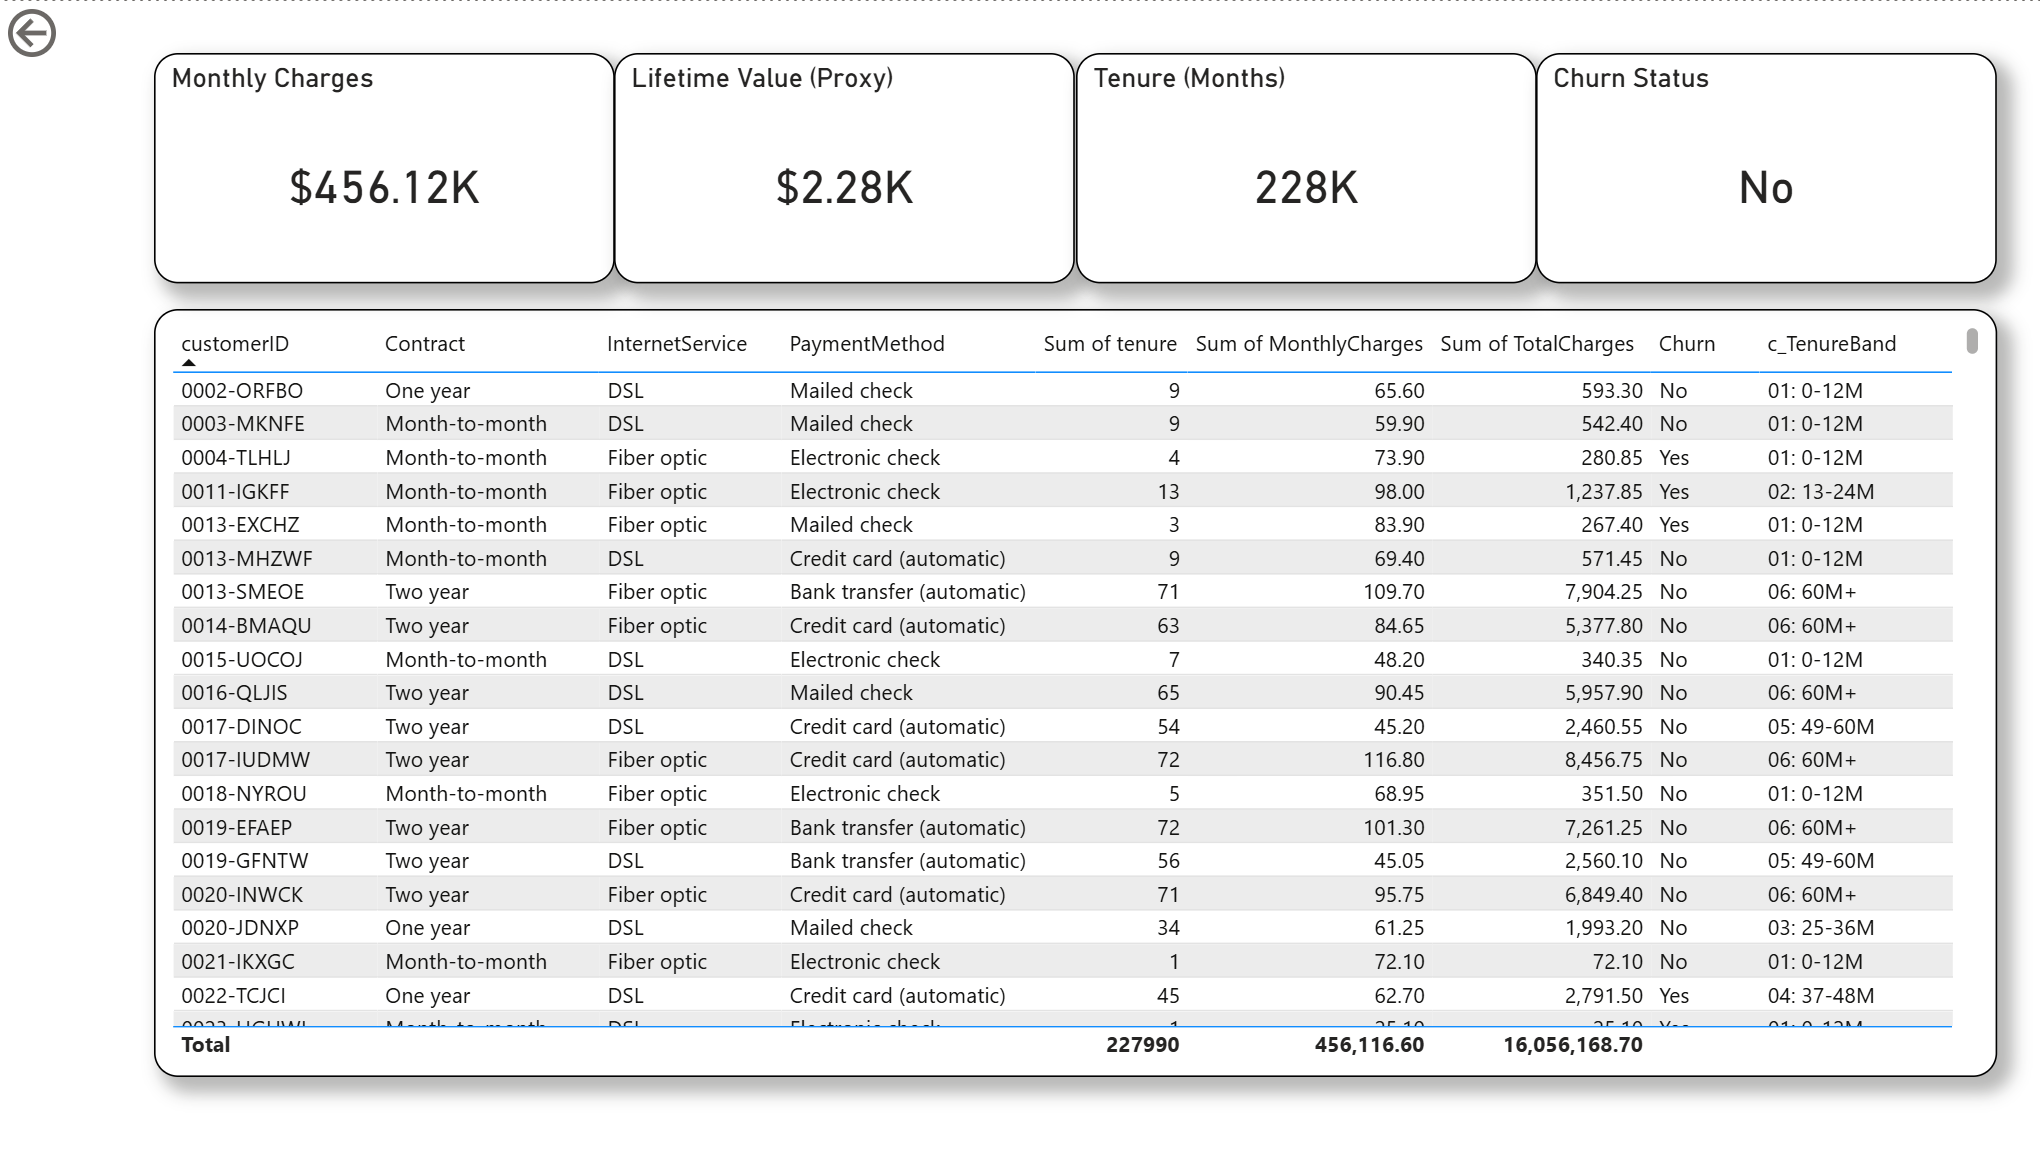

The page's visual inventory and layout, read from the dashboard file:
{"tool":"powerbi","page":{"name":"Customer Detail","canvas":[1280,720],"ordinal":3},"visuals":[{"type":"actionButton","box":[0,0,100,40],"z":0},{"type":"tableEx","fields":{"Values":["dimCustomer.customerID","dimCustomer.Contract","dimCustomer.InternetService","dimCustomer.PaymentMethod","Sum(factSubscription.tenure)","Sum(factSubscription.MonthlyCharges)","Sum(factSubscription.TotalCharges)","factSubscription.Churn","factSubscription.c_TenureBand"]},"box":[96,192,1152,480],"z":1000},{"type":"card","title":"Monthly Charges","fields":{"Values":["_Measures.m_Total MRR"]},"box":[96,32,288,144],"z":2000},{"type":"card","title":"Lifetime Value (Proxy)","fields":{"Values":["_Measures.m_Proxy CLV"]},"box":[384,32,288,144],"z":3000},{"type":"card","title":"Tenure (Months)","fields":{"Values":["Sum(factSubscription.tenure)"]},"box":[672,32,288,144],"z":4000},{"type":"card","title":"Churn Status","fields":{"Values":["Min(factSubscription.Churn)"]},"box":[960,32,288,144],"z":5000}]}

Visuals, with their boxes in screenshot pixels (x1, y1, x2, y2), scaled from the page's 1280x720 canvas onto the 2040x1150 screenshot:
actionButton: x1=0 y1=0 x2=159 y2=64
tableEx - dimCustomer.customerID x dimCustomer.Contract: x1=153 y1=307 x2=1989 y2=1073
"Monthly Charges" card: x1=153 y1=51 x2=612 y2=281
"Lifetime Value (Proxy)" card: x1=612 y1=51 x2=1071 y2=281
"Tenure (Months)" card: x1=1071 y1=51 x2=1530 y2=281
"Churn Status" card: x1=1530 y1=51 x2=1989 y2=281
